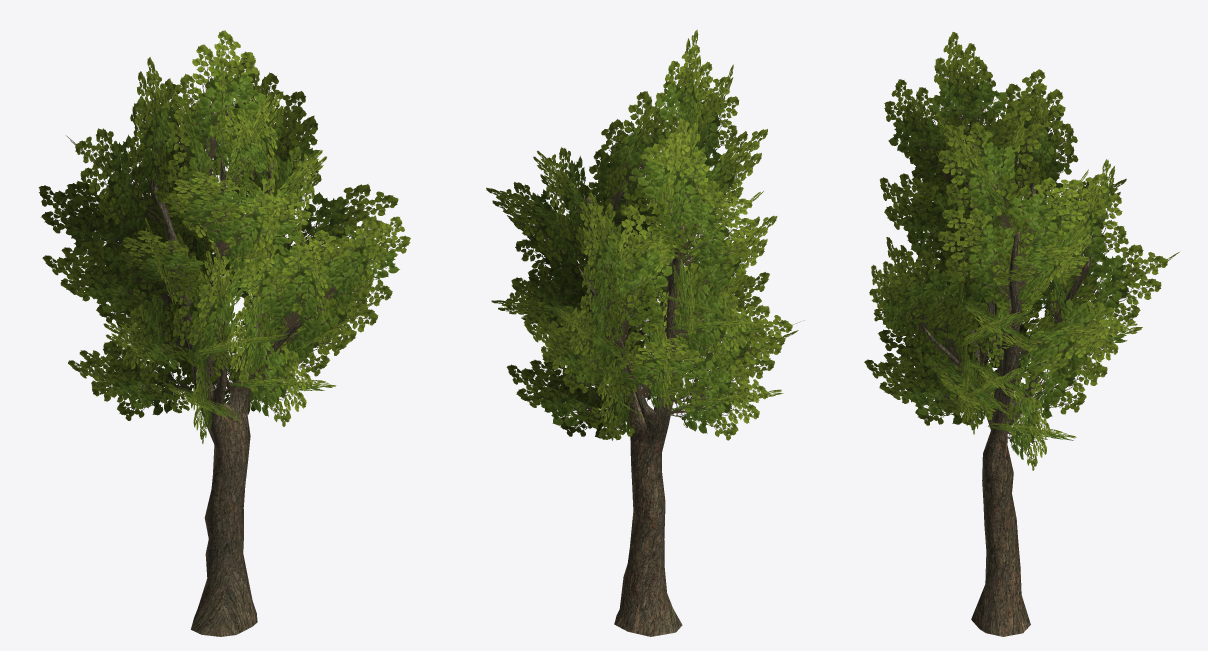
Rendered from lindenTree.dae.
3 renders of one model, left to right at view 1: azimuth 30°, elevation 25°; view 2: azimuth 150°, elevation 25°; view 3: azimuth 270°, elevation 25°, orthographic. The views are drawn at different scales.
Visible parts, largest first — view 1: lindenTree; view 2: lindenTree; view 3: lindenTree.
Part boxes in pixels (box(x1,y1,x2,y2)): lindenTree: box(38, 30, 410, 636); lindenTree: box(486, 29, 803, 636); lindenTree: box(864, 32, 1179, 636).
Bounding box in the file's own units: 0.7692 × 1.36 × 0.7313.
Materials: 1 (1 with a texture image).
